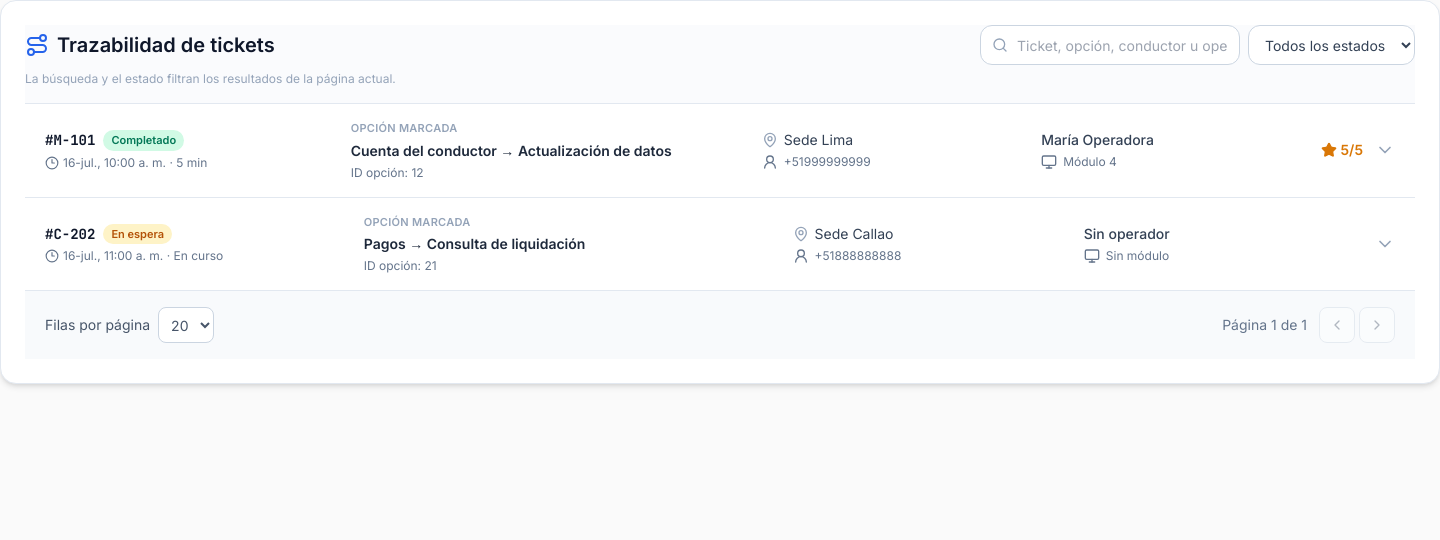
Test: TicketTraceabilityPanel › muestra la sede y las opciones marcadas y permite consultar el recorrido
Check: the text "Cuenta del conductor → Actualización de datos" is shown, box x1=351 y1=142 x2=672 y2=158
Check: the text "Sede Lima" is shown, box x1=762 y1=131 x2=853 y2=148
Click the text "#M-101": (70, 140) x1=45 y1=130 x2=95 y2=150
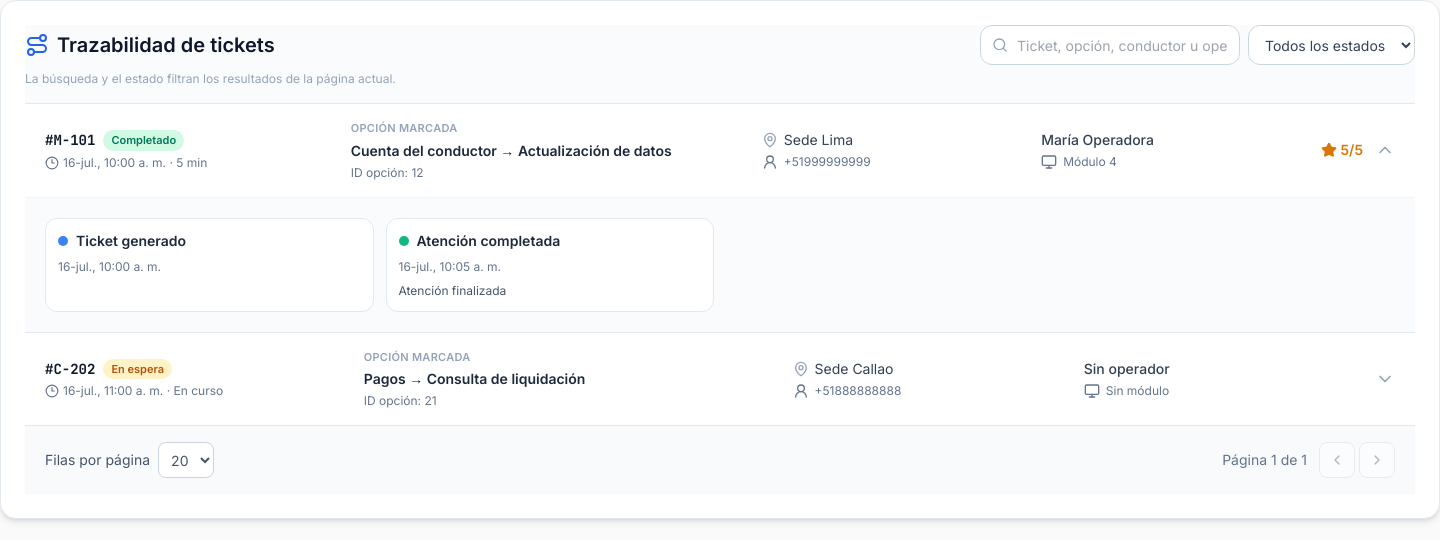
Check: the text "Ticket generado" is shown, box x1=76 y1=230 x2=186 y2=250
Check: the text "Atención completada" is shown, box x1=416 y1=230 x2=560 y2=250
Check: the text "Atención finalizada" is shown, box x1=398 y1=282 x2=506 y2=298
